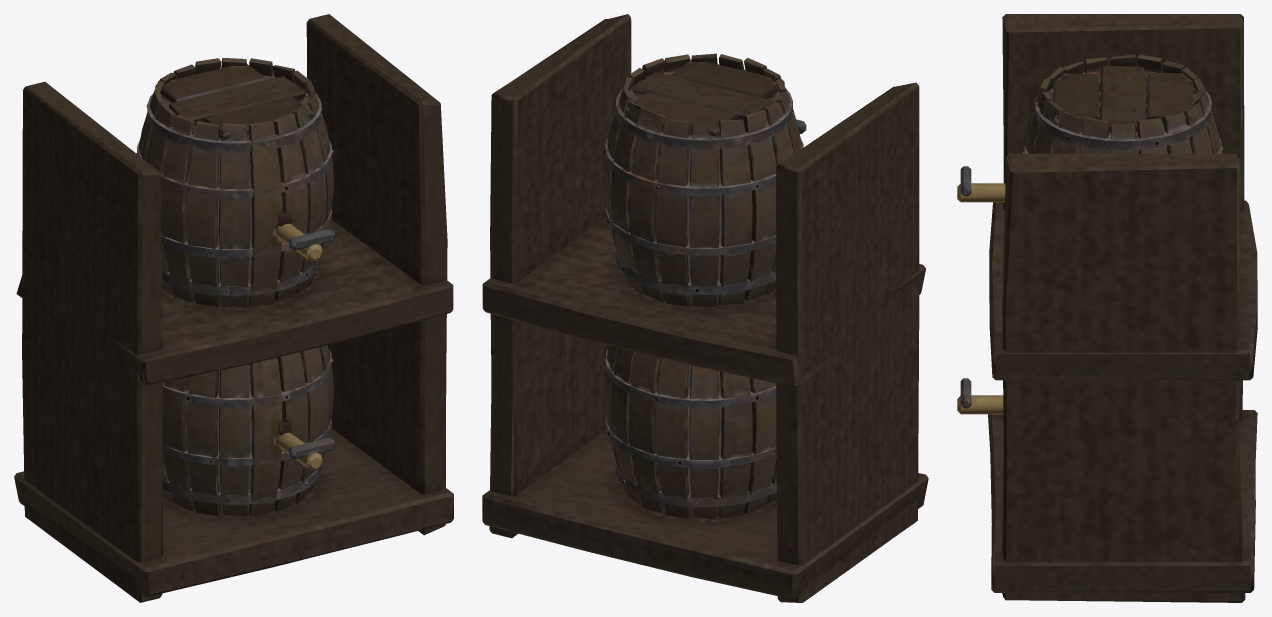
File: keg_rack.glb
3 renders of one model, left to right at view 1: azimuth 30°, elevation 25°; view 2: azimuth 150°, elevation 25°; view 3: azimuth 270°, elevation 25°, orthographic.
Parts seen in each view (by area): view 1: keg_rack; view 2: keg_rack; view 3: keg_rack.
Boxes of the visible parts, <box> form: keg_rack: <box>14,14,453,602</box>; keg_rack: <box>482,14,928,602</box>; keg_rack: <box>957,14,1257,602</box>.
Size of the model in its own units: 0.86 by 1.14 by 0.7061.
1 material, 1 textured.
